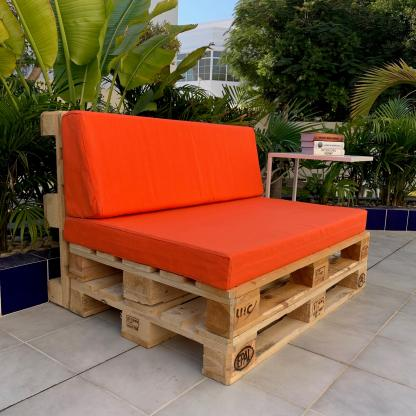BoxFace: (63, 263, 369, 386), (70, 232, 368, 338)
